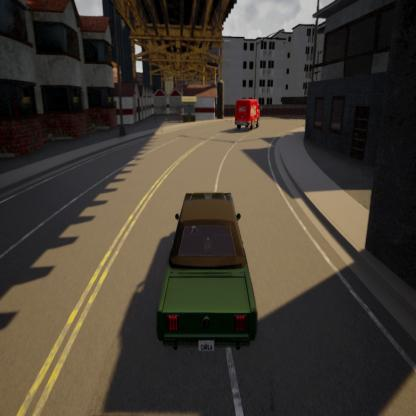Cars: (155, 183, 268, 367), (232, 95, 264, 136)
